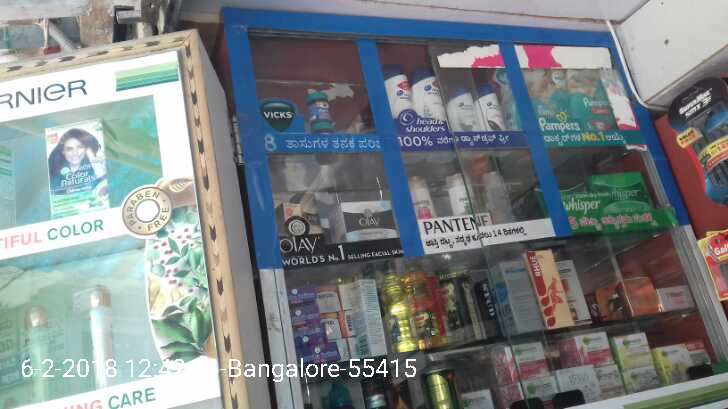vicks: (307, 89, 336, 134)
